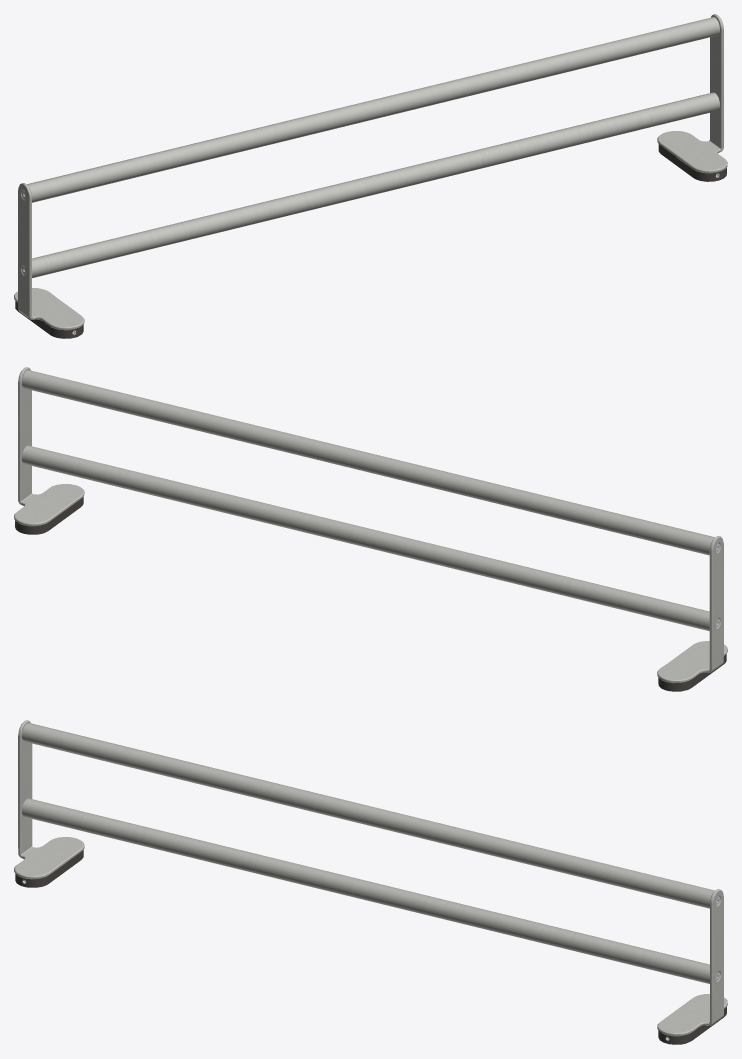
The model's file is brogrund_drazek_na_recznik_30328534.glb.
3 renders of one model, top to bottom at view 1: azimuth 30°, elevation 25°; view 2: azimuth 150°, elevation 25°; view 3: azimuth 330°, elevation 25°, orthographic.
Visible parts, largest first — view 1: brogrund_drazek_na_recznik_30328534; view 2: brogrund_drazek_na_recznik_30328534; view 3: brogrund_drazek_na_recznik_30328534.
Boxes of the visible parts, x1,y1,x2,y2 form: brogrund_drazek_na_recznik_30328534: (14,14,727,338); brogrund_drazek_na_recznik_30328534: (14,367,727,691); brogrund_drazek_na_recznik_30328534: (14,720,727,1044).
Size of the model in its own units: 0.674 by 0.131 by 0.087.
1 material, 1 textured.
